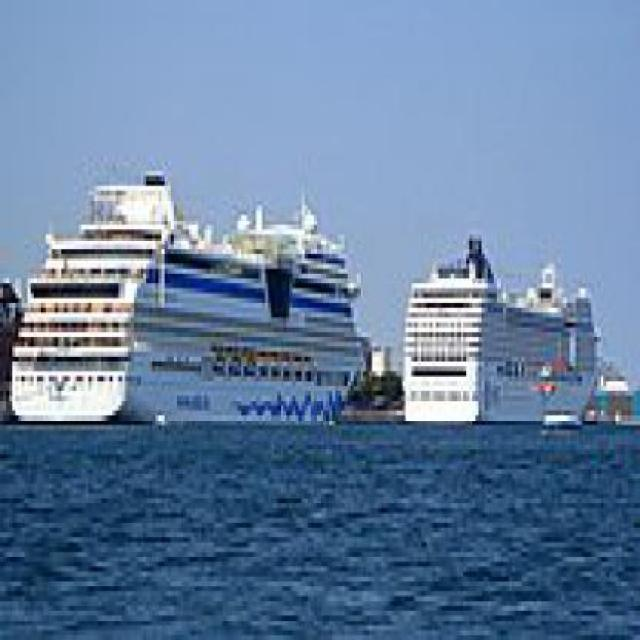cruise: (10, 168, 370, 437), (400, 231, 608, 437)
